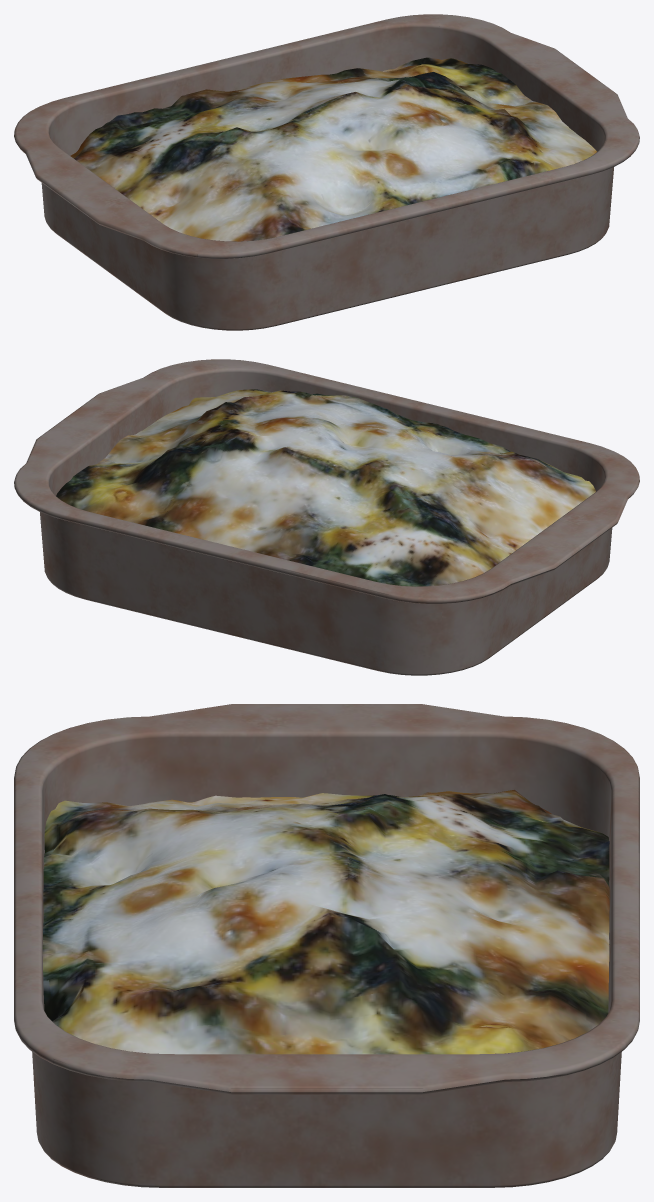
Rendered from Pastel de Huevo con Lechuga de Repollo.fbx.
3 views of the same model, one above another, from view 1: azimuth 30°, elevation 25°; view 2: azimuth 150°, elevation 25°; view 3: azimuth 270°, elevation 25° (orthographic). The views are drawn at different scales.
Parts seen in each view (by area): view 1: Pastel de huevo con Lechuga de repollo; view 2: Pastel de huevo con Lechuga de repollo; view 3: Pastel de huevo con Lechuga de repollo.
Boxes of the visible parts, x1,y1,x2,y2 form: Pastel de huevo con Lechuga de repollo: (14, 14, 639, 330); Pastel de huevo con Lechuga de repollo: (14, 359, 639, 675); Pastel de huevo con Lechuga de repollo: (14, 704, 639, 1187).
Bounding box in the file's own units: 133 × 28.41 × 91.55.
Materials: 1 (1 with a texture image).
